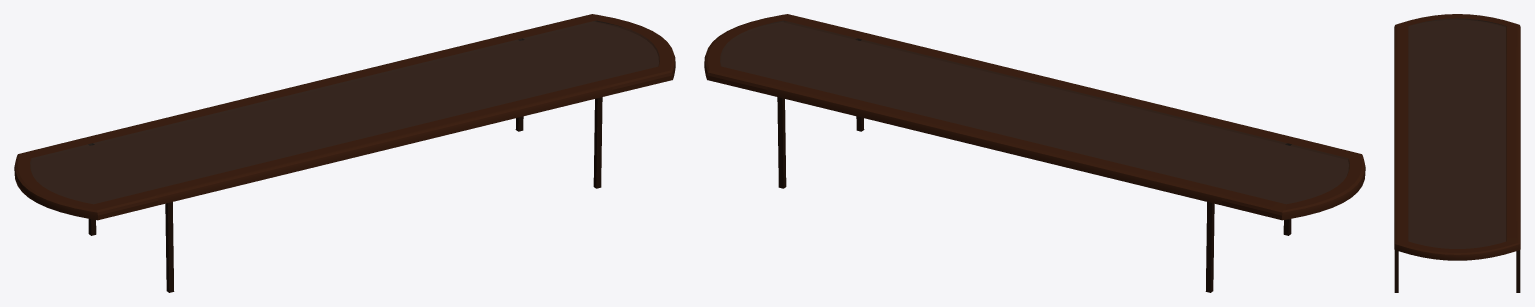
The model's file is confrence room table.FBX.
The picture shows the model from 3 angles, left to right: view 1: azimuth 30°, elevation 25°; view 2: azimuth 150°, elevation 25°; view 3: azimuth 270°, elevation 25°; orthographic projection. The views are drawn at different scales.
Parts seen in each view (by area): view 1: Box012; view 2: Box012; view 3: Box012.
Boxes of the visible parts, left/top/right/bottom form: Box012: left=14, top=14, right=675, bottom=292; Box012: left=704, top=14, right=1365, bottom=292; Box012: left=1394, top=14, right=1520, bottom=292.
Bounding box in the file's own units: 143 × 21.21 × 31.5.
